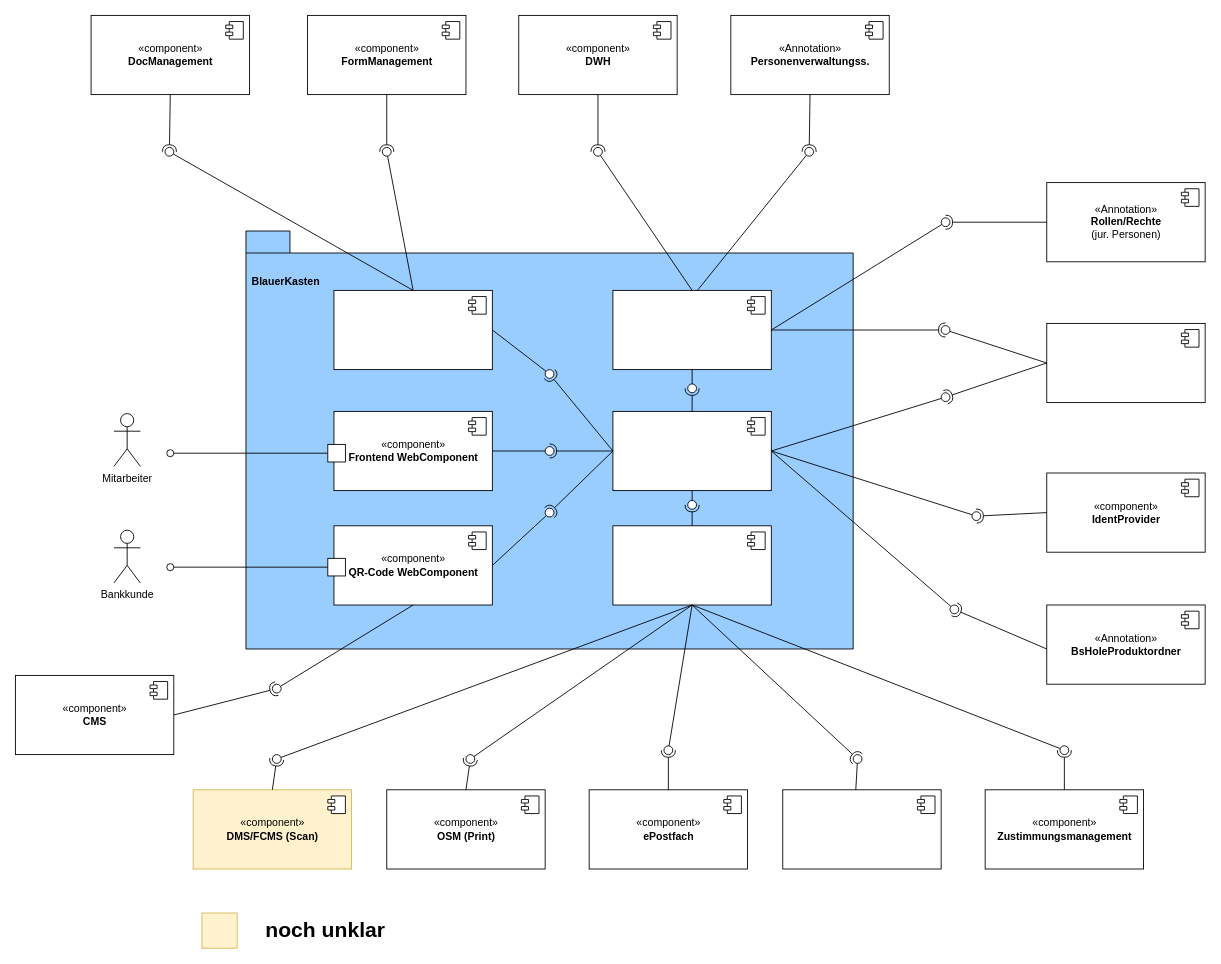
Image size: 1221x964. Some labels were removed from this diagram. The centre of each missing label's shape, as x and y in pixels:
"«component» BlueBoxService" goes at [691,451].
"«component» DCS (DataCollectionService)" goes at [691,330].
"«component» DocService" goes at [412,330].
"«component» Konditionsdatenbank" goes at [1125,363].
"«component» Overlay" goes at [861,829].
"«component» POS" goes at [691,565].
